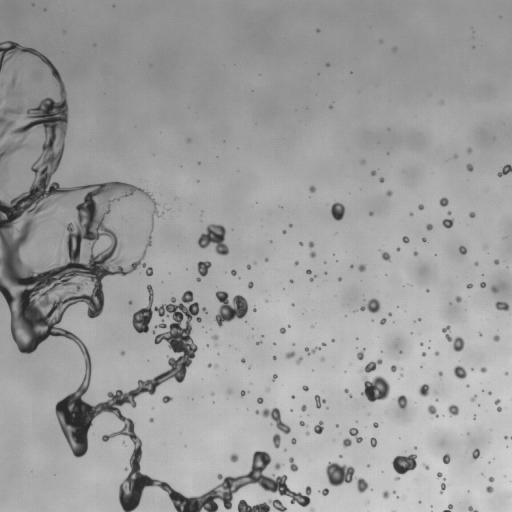droplet: (214, 291, 247, 326), (197, 224, 228, 255), (361, 376, 389, 402), (326, 462, 354, 486), (392, 454, 416, 474), (196, 261, 211, 281), (360, 298, 380, 313), (331, 202, 345, 220), (453, 365, 466, 379), (357, 478, 368, 492), (314, 395, 325, 408), (397, 395, 407, 409), (418, 384, 429, 396), (427, 405, 438, 417), (495, 301, 509, 310), (314, 421, 323, 434), (272, 434, 280, 448), (448, 405, 458, 416), (442, 219, 453, 228), (356, 349, 364, 360), (439, 197, 448, 206), (381, 252, 390, 261), (229, 453, 238, 462), (442, 453, 450, 463), (472, 449, 479, 460), (343, 438, 351, 447), (285, 351, 295, 358), (162, 396, 172, 403), (370, 437, 377, 447), (146, 267, 153, 276), (459, 246, 466, 254), (320, 488, 328, 495), (382, 490, 389, 498), (466, 164, 473, 171), (402, 236, 409, 243), (358, 264, 365, 271), (491, 286, 498, 293), (274, 463, 281, 469), (486, 486, 493, 492), (309, 186, 315, 192), (386, 190, 392, 196), (426, 224, 432, 230), (310, 251, 316, 257), (455, 296, 461, 302), (380, 318, 386, 324), (493, 335, 499, 341), (390, 365, 396, 371), (302, 385, 308, 391), (241, 390, 247, 396), (470, 395, 476, 401), (257, 397, 263, 403), (301, 404, 306, 411), (299, 421, 306, 426), (469, 212, 475, 217), (308, 241, 313, 247), (231, 269, 236, 275), (248, 282, 253, 288), (280, 327, 285, 333), (212, 335, 218, 340), (296, 357, 301, 363), (480, 367, 486, 372), (272, 374, 277, 380), (373, 422, 378, 428), (291, 438, 296, 444), (423, 464, 429, 469), (488, 477, 494, 482), (418, 204, 423, 209), (494, 259, 499, 264), (306, 269, 311, 274), (480, 282, 485, 287), (437, 472, 442, 477), (310, 275, 314, 281), (371, 170, 375, 175), (379, 177, 383, 182), (422, 237, 426, 242), (467, 284, 472, 288), (438, 371, 442, 376), (467, 148, 471, 152), (447, 211, 451, 215), (282, 230, 286, 234), (413, 251, 417, 255), (294, 261, 298, 265), (120, 351, 124, 355), (435, 351, 439, 355), (422, 352, 426, 356), (241, 358, 245, 362), (149, 418, 153, 422), (256, 341, 261, 344), (247, 265, 250, 269), (321, 342, 325, 345), (255, 410, 259, 413), (395, 477, 399, 480), (361, 160, 364, 163), (369, 212, 372, 215), (299, 242, 302, 245), (265, 258, 268, 261), (475, 262, 478, 265), (290, 279, 293, 282), (129, 301, 132, 304), (253, 308, 256, 311), (273, 356, 276, 359), (321, 358, 324, 361), (208, 364, 211, 367), (228, 390, 231, 393), (291, 395, 294, 398), (306, 432, 309, 435), (397, 247, 399, 250), (350, 265, 353, 267), (338, 278, 341, 280), (388, 313, 391, 315), (331, 339, 334, 341), (420, 343, 423, 345), (488, 392, 491, 394), (504, 436, 507, 438), (367, 464, 369, 467), (125, 467, 127, 470), (317, 29, 319, 31), (393, 48, 395, 50), (188, 139, 190, 141), (134, 198, 136, 200), (410, 213, 412, 215), (289, 224, 291, 226), (291, 303, 293, 305), (354, 310, 356, 312), (479, 333, 481, 335), (399, 351, 401, 353), (215, 365, 217, 367), (505, 372, 507, 374), (400, 374, 402, 376), (311, 509, 313, 511)
ligament: (0, 42, 306, 511), (0, 105, 24, 137), (262, 408, 290, 434), (237, 499, 286, 511), (442, 325, 464, 351), (363, 359, 382, 372), (349, 428, 362, 443), (6, 76, 16, 95), (497, 164, 511, 176), (289, 457, 298, 471), (305, 346, 320, 354), (344, 388, 352, 397), (495, 399, 501, 411), (443, 504, 452, 511), (440, 482, 445, 492), (468, 506, 477, 511)
